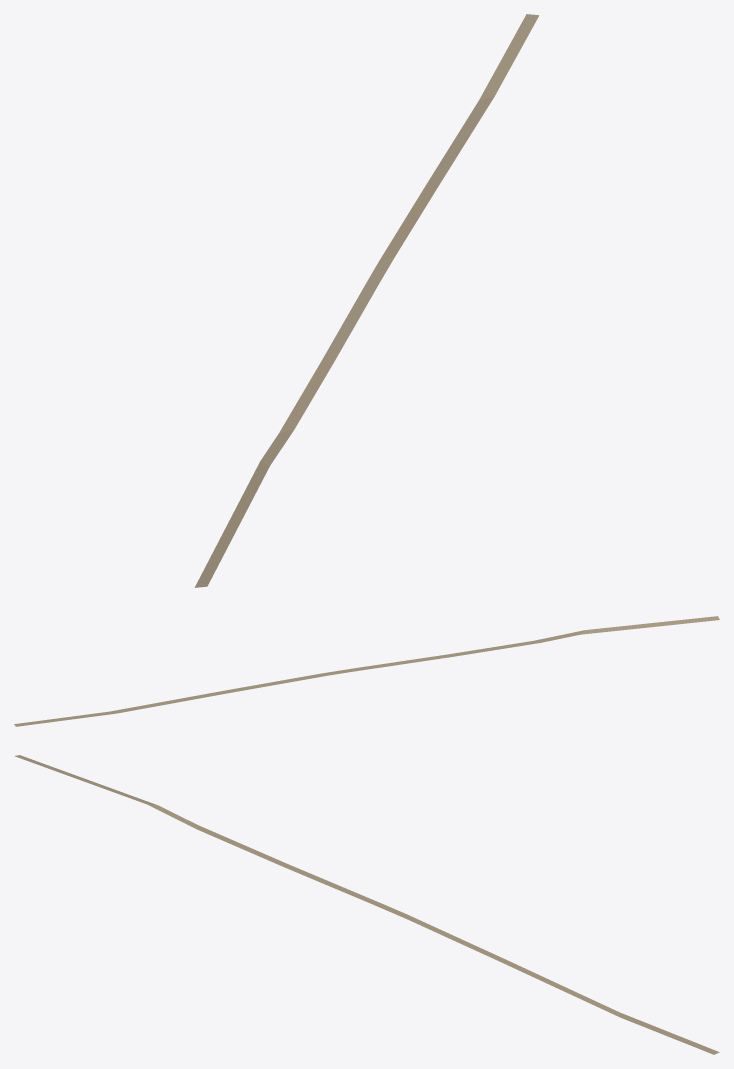
Rendered from farm_-10_4_track.glb.
The picture shows the model from 3 angles, top to bottom: view 1: azimuth 30°, elevation 25°; view 2: azimuth 150°, elevation 25°; view 3: azimuth 270°, elevation 25°; orthographic projection. The views are drawn at different scales.
Visible parts, largest first — view 1: geometry_0; view 2: geometry_0; view 3: geometry_0.
Boxes of the visible parts, x1,y1,x2,y2 form: geometry_0: [194, 14, 539, 587]; geometry_0: [14, 616, 719, 726]; geometry_0: [14, 755, 719, 1054].
Bounding box in the file's own units: 250 × 11.16 × 268.
